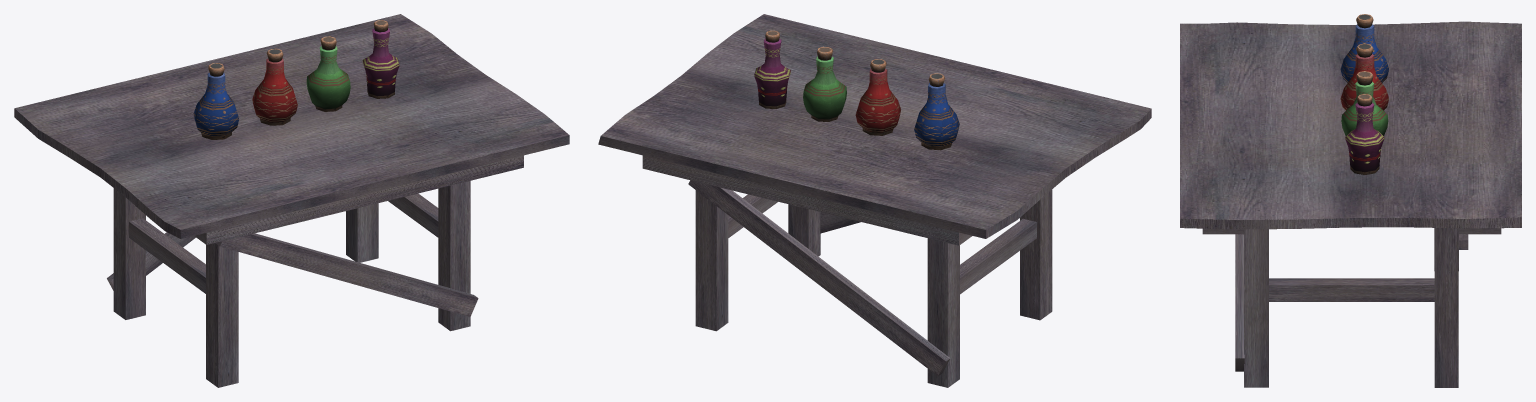
The model's file is bottles.obj.
The picture shows the model from 3 angles, left to right: view 1: azimuth 30°, elevation 25°; view 2: azimuth 150°, elevation 25°; view 3: azimuth 270°, elevation 25°; orthographic projection. The views are drawn at different scales.
Parts seen in each view (by area): view 1: Cube_Cube.001, Cube.010_Cube.005, Cube.008_Cube.004, Cube.002, Cube.007_Cube.004, Cube.005_Cube.004, small_health_poti.004_Cylinder.007, small_health_poti_Cylinder.005, Cube.011_Cube.006, small_health_poti.001_Cylinder.006, small_health_poti.003_Cylinder.010, Cube.006_Cube.004 (+2 smaller); view 2: Cube_Cube.001, Cube.009_Cube.005, Cube.001_Cube.002, Cube.006_Cube.004, Cube.005_Cube.004, Cube.008_Cube.004, small_health_poti_Cylinder.005, Cube.011_Cube.006, small_health_poti.004_Cylinder.007, small_health_poti.001_Cylinder.006, small_health_poti.003_Cylinder.010, Cube.007_Cube.004 (+2 smaller); view 3: Cube_Cube.001, Cube.006_Cube.004, Cube.012_Cube.006, Cube.007_Cube.004, small_health_poti.003_Cylinder.010, small_health_poti.004_Cylinder.007, small_health_poti_Cylinder.005, Cube.010_Cube.005, small_health_poti.001_Cylinder.006, Cube.001_Cube.002.
Part boxes in pixels (x1,y1,x2,y2): Cube_Cube.001: [14, 14, 569, 238]; Cube.010_Cube.005: [215, 233, 478, 316]; Cube.008_Cube.004: [206, 243, 238, 387]; Cube.002: [194, 155, 523, 244]; Cube.007_Cube.004: [438, 181, 470, 331]; Cube.005_Cube.004: [113, 188, 145, 319]; small_health_poti.004_Cylinder.007: [193, 63, 239, 139]; small_health_poti_Cylinder.005: [252, 48, 297, 125]; Cube.011_Cube.006: [129, 218, 205, 293]; small_health_poti.001_Cylinder.006: [306, 36, 350, 111]; small_health_poti.003_Cylinder.010: [362, 20, 399, 98]; Cube.006_Cube.004: [346, 203, 378, 262]; Cube_Cube.001: [598, 14, 1151, 238]; Cube.009_Cube.005: [688, 180, 950, 375]; Cube.001_Cube.002: [642, 155, 971, 245]; Cube.006_Cube.004: [695, 190, 728, 331]; Cube.005_Cube.004: [927, 238, 959, 387]; Cube.008_Cube.004: [1020, 189, 1052, 320]; small_health_poti_Cylinder.005: [855, 59, 900, 135]; Cube.011_Cube.006: [960, 218, 1036, 294]; small_health_poti.004_Cylinder.007: [914, 73, 959, 150]; small_health_poti.001_Cylinder.006: [803, 46, 846, 121]; small_health_poti.003_Cylinder.010: [754, 30, 790, 108]; Cube.007_Cube.004: [788, 204, 820, 256]; Cube_Cube.001: [1180, 21, 1521, 229]; Cube.006_Cube.004: [1434, 228, 1458, 387]; Cube.012_Cube.006: [1269, 278, 1434, 301]; Cube.007_Cube.004: [1244, 229, 1268, 387]; small_health_poti.003_Cylinder.010: [1345, 94, 1384, 174]; small_health_poti.004_Cylinder.007: [1340, 14, 1388, 82]; small_health_poti_Cylinder.005: [1340, 43, 1388, 110]; Cube.010_Cube.005: [1235, 234, 1244, 371]; small_health_poti.001_Cylinder.006: [1341, 71, 1388, 135]; Cube.001_Cube.002: [1459, 228, 1501, 234].
Bounding box in the file's own units: 2.75 × 1.78 × 2.
